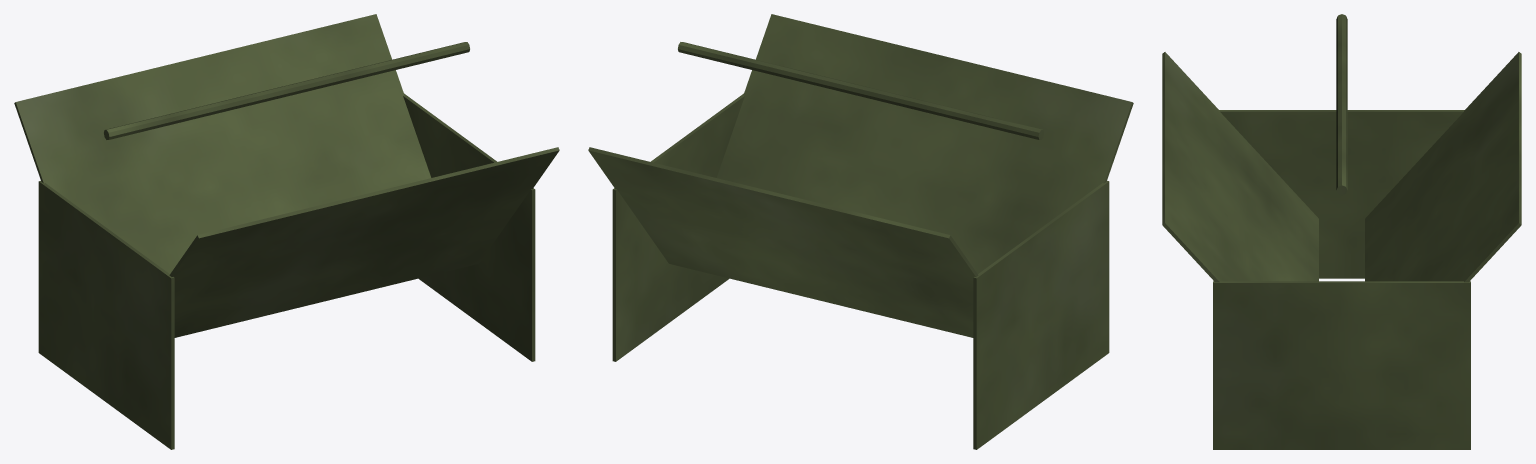
The model's file is field_tent.glb.
3 views of the same model, side by side, from view 1: azimuth 30°, elevation 25°; view 2: azimuth 150°, elevation 25°; view 3: azimuth 270°, elevation 25° (orthographic). The views are drawn at different scales.
Parts seen in each view (by area): view 1: field_tent; view 2: field_tent; view 3: field_tent.
Part boxes in pixels (x1,y1,x2,y2): field_tent: [14, 14, 559, 449]; field_tent: [588, 14, 1133, 449]; field_tent: [1162, 14, 1521, 449].
Bounding box in the file's own units: 2.22 × 1.58 × 1.95.
Materials: 1 (1 with a texture image).
